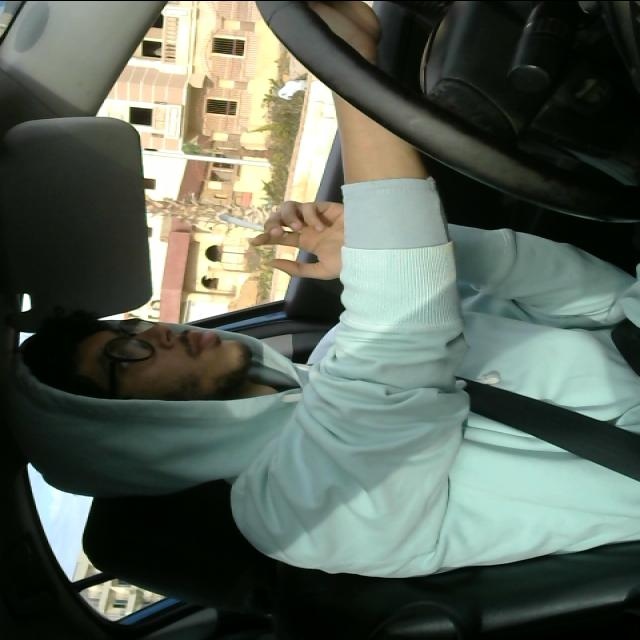smoking: (208, 212, 290, 246)
